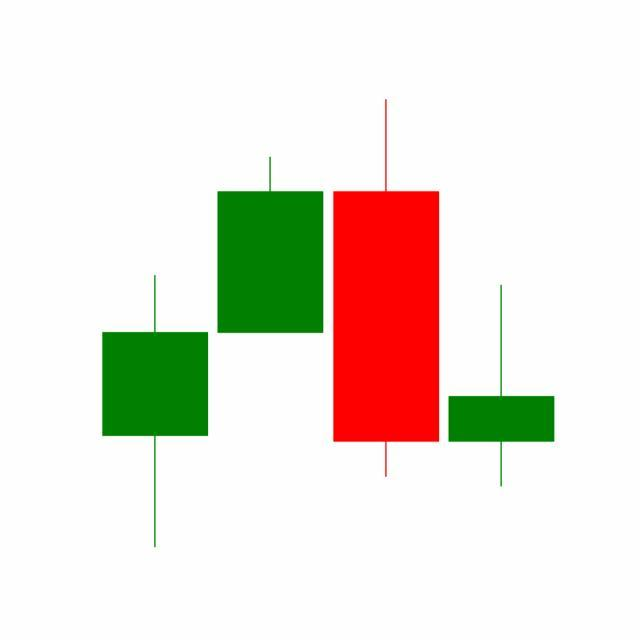Spinning Top: (444, 283, 560, 489)
